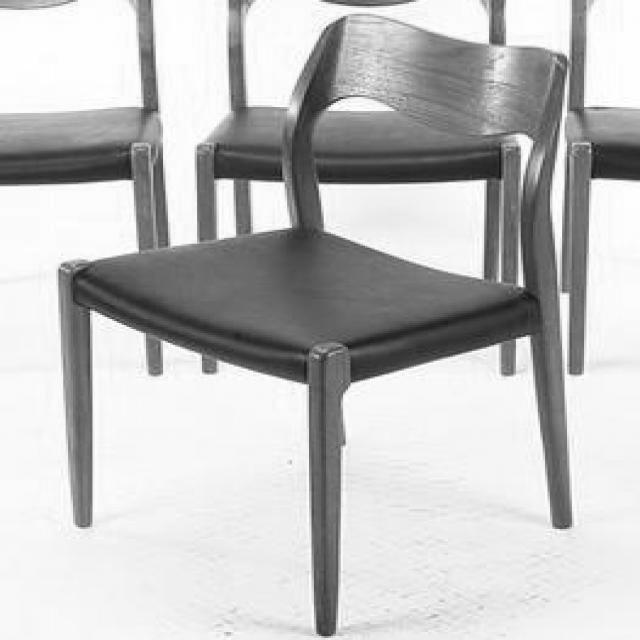chair: (53, 14, 576, 636), (206, 0, 528, 376), (0, 0, 181, 376), (559, 0, 638, 379)
